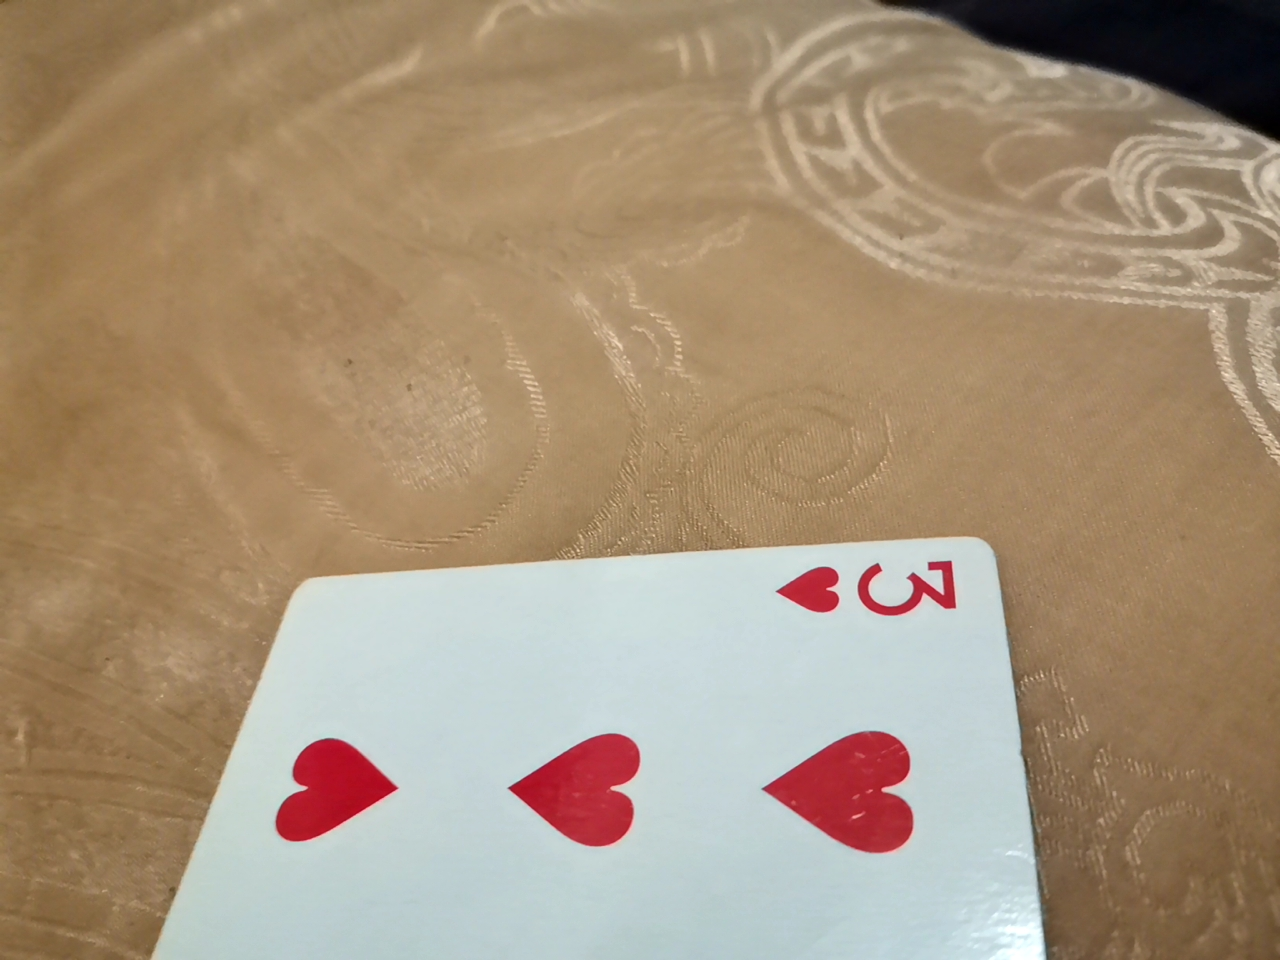hx 3: (115, 530, 1034, 958)
